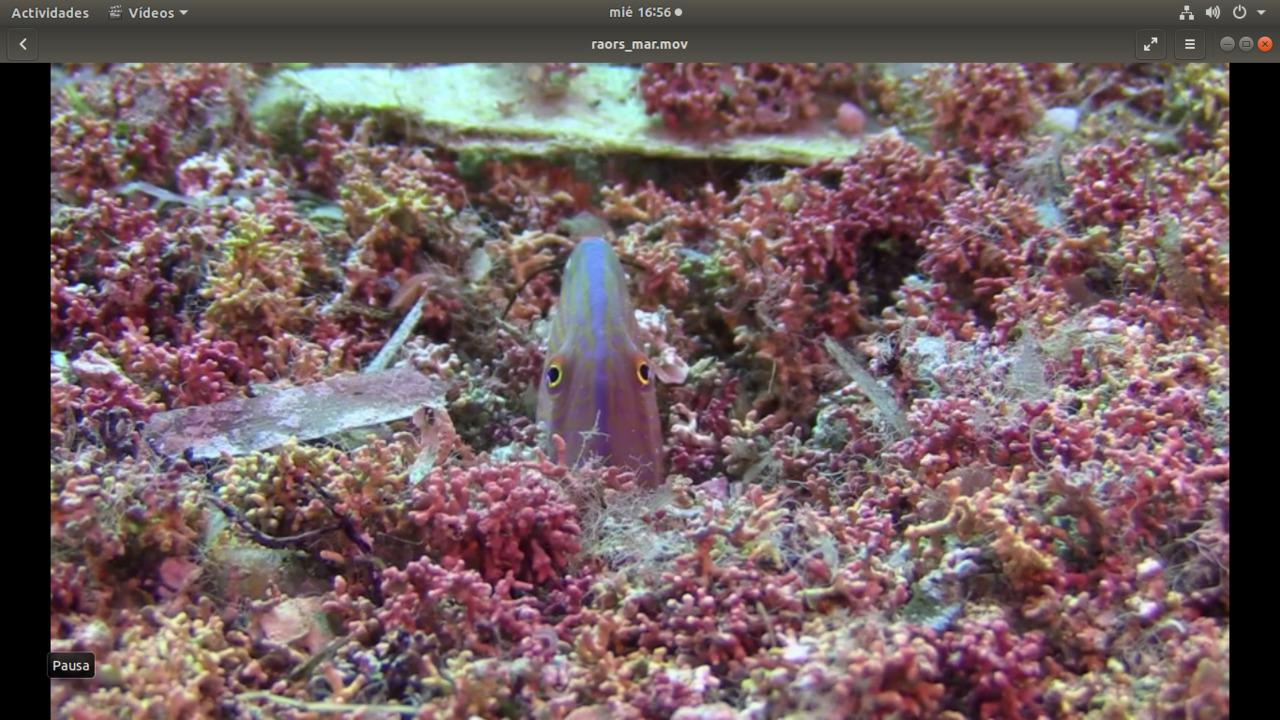raor: (518, 226, 691, 486)
